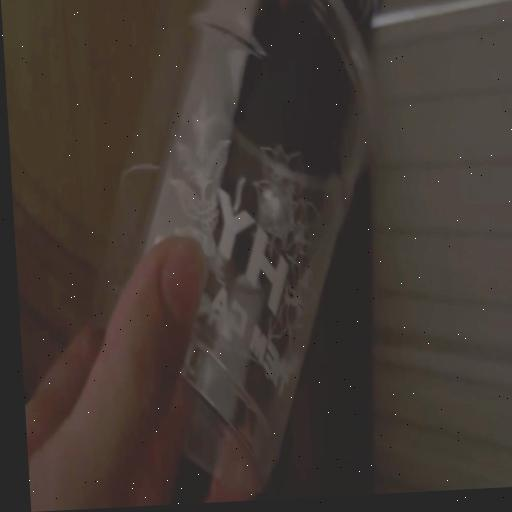ly_giay: (99, 0, 371, 492)
